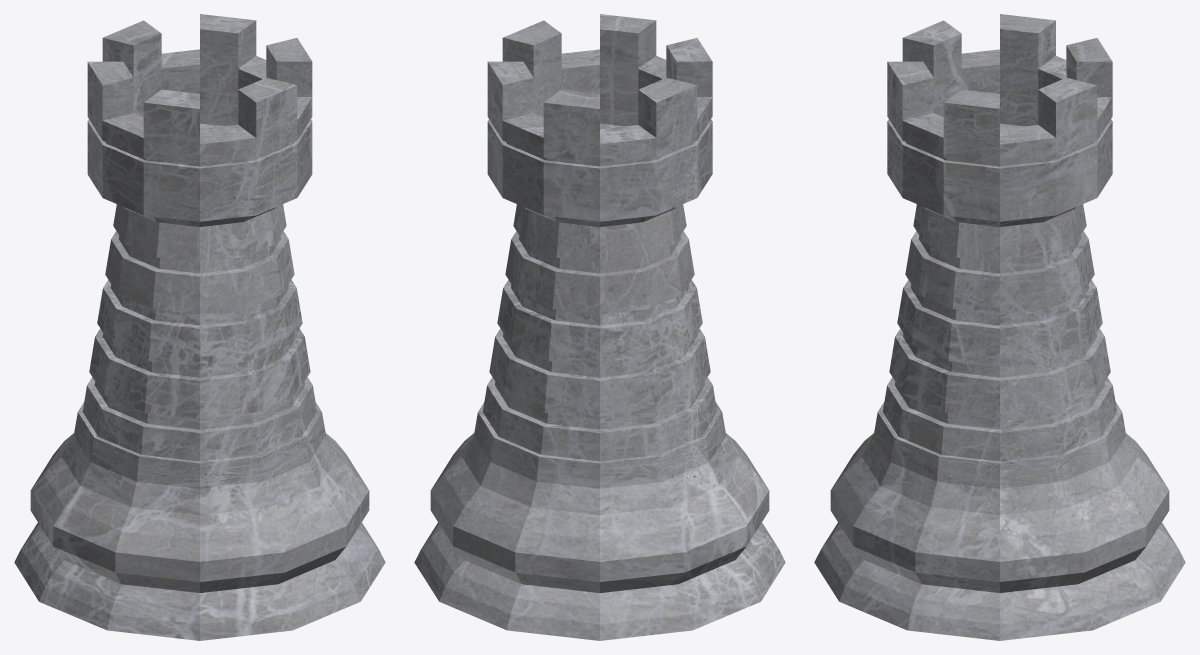
The model's file is rook.obj.
3 renders of one model, left to right at view 1: azimuth 30°, elevation 25°; view 2: azimuth 150°, elevation 25°; view 3: azimuth 270°, elevation 25°, orthographic.
Parts seen in each view (by area): view 1: rook; view 2: rook; view 3: rook.
Boxes of the visible parts, x1=… form: rook: x1=14, y1=14, x2=385, y2=640; rook: x1=414, y1=14, x2=785, y2=640; rook: x1=814, y1=14, x2=1185, y2=640.
Bounding box in the file's own units: 0.1615 × 0.2402 × 0.1615.
Materials: 1 (1 with a texture image).
